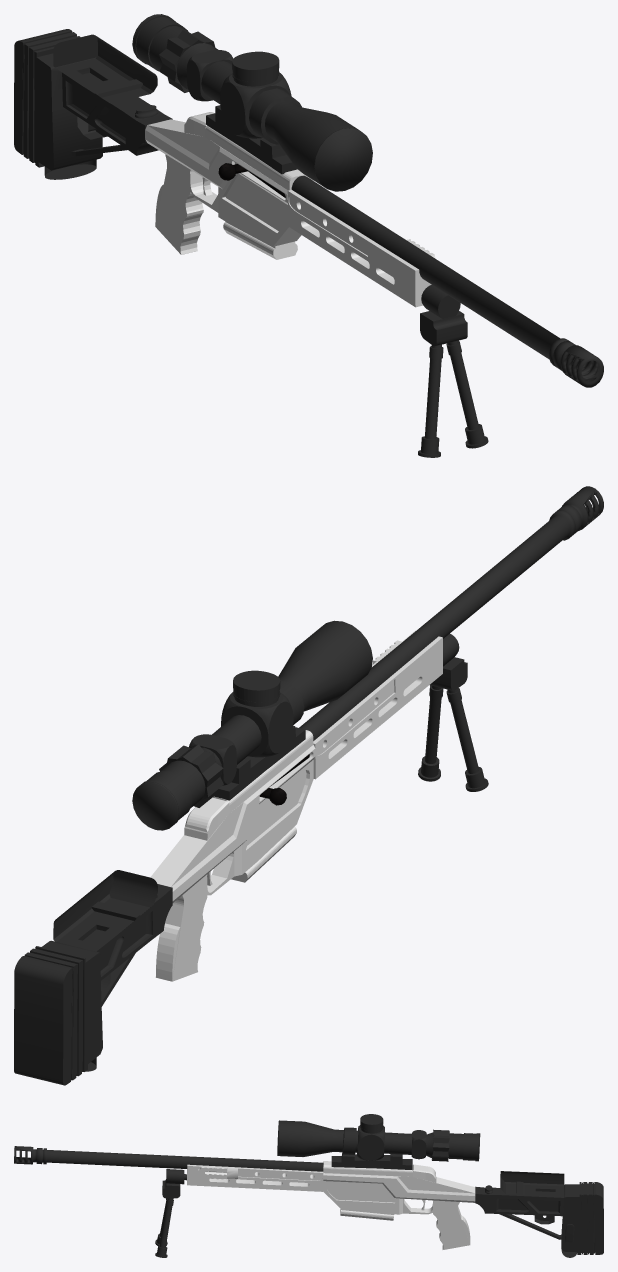
File: sniper.glb
3 views of the same model, one above another, from view 1: azimuth 30°, elevation 25°; view 2: azimuth 150°, elevation 25°; view 3: azimuth 270°, elevation 25° (orthographic). The views are drawn at different scales.
Visible parts, largest first — view 1: Scope, CAMO1, back2, Nozzle, BACK, CAMO, Stand; view 2: Scope, CAMO1, BACK, Nozzle, back2, CAMO, Stand; view 3: CAMO1, Scope, back2, Nozzle, BACK, CAMO, Stand.
Boxes of the visible parts, box(x1,y1,x2,y2) form: Scope: box(132, 14, 372, 191); CAMO1: box(145, 112, 313, 259); back2: box(53, 34, 172, 156); Nozzle: box(291, 176, 603, 387); BACK: box(14, 29, 102, 179); CAMO: box(287, 190, 435, 307); Stand: box(418, 285, 488, 457); Scope: box(132, 620, 372, 830); CAMO1: box(150, 730, 315, 981); BACK: box(14, 940, 102, 1085); Nozzle: box(299, 486, 603, 740); back2: box(53, 870, 172, 1006); CAMO: box(308, 630, 442, 779); Stand: box(418, 634, 488, 791); CAMO1: box(323, 1161, 475, 1249); Scope: box(277, 1114, 480, 1170); back2: box(475, 1171, 564, 1239); Nozzle: box(14, 1146, 323, 1171); BACK: box(561, 1182, 603, 1257); CAMO: box(187, 1164, 323, 1191); Stand: box(155, 1169, 186, 1257).
Size of the model in its own units: 0.8391 by 2.94 by 11.88.
4 materials, 1 textured.
